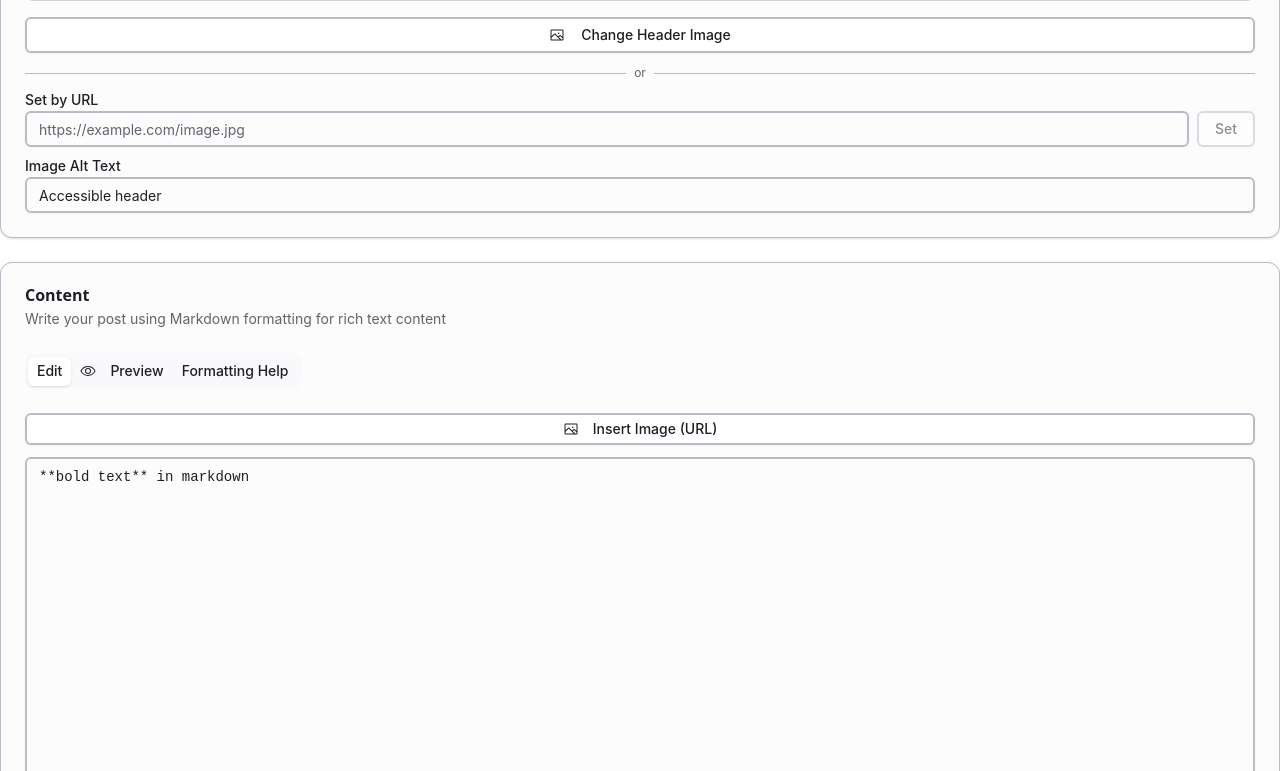
Test case: BlogPostEditor Accessibility › shows alt-text field when a header image is present and renders markdown preview
The width and height of the screenshot is (1280, 771).
(page scrolled)
Check: the field labelled "Image Alt Text" is shown, box [25,177,1255,213]
What coordinates should you click on to do the following:
click the tab "Preview"
I would click on:
 (122, 371)
Its box is [71,356,173,386].
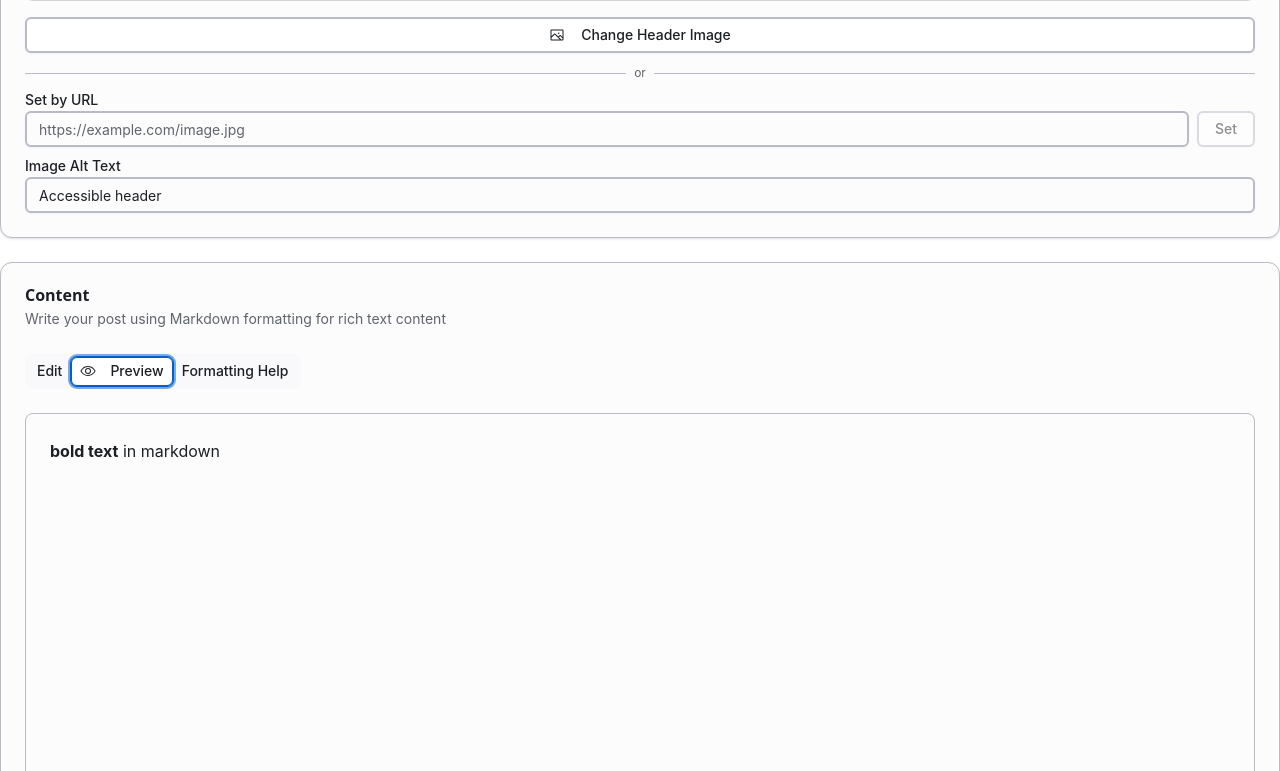
Check: the text "bold text" is shown, box [50,441,118,461]
